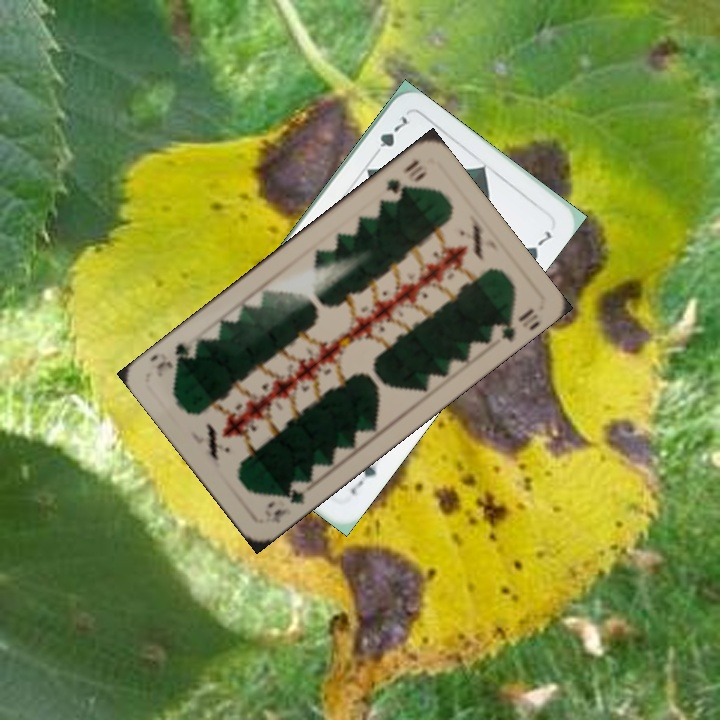G10: (267, 476, 309, 523), (382, 156, 429, 197)
G7: (368, 112, 414, 161), (346, 461, 379, 497)
